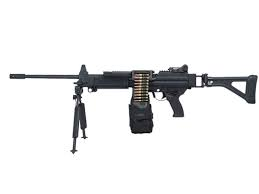Gun: (8, 62, 259, 159)
